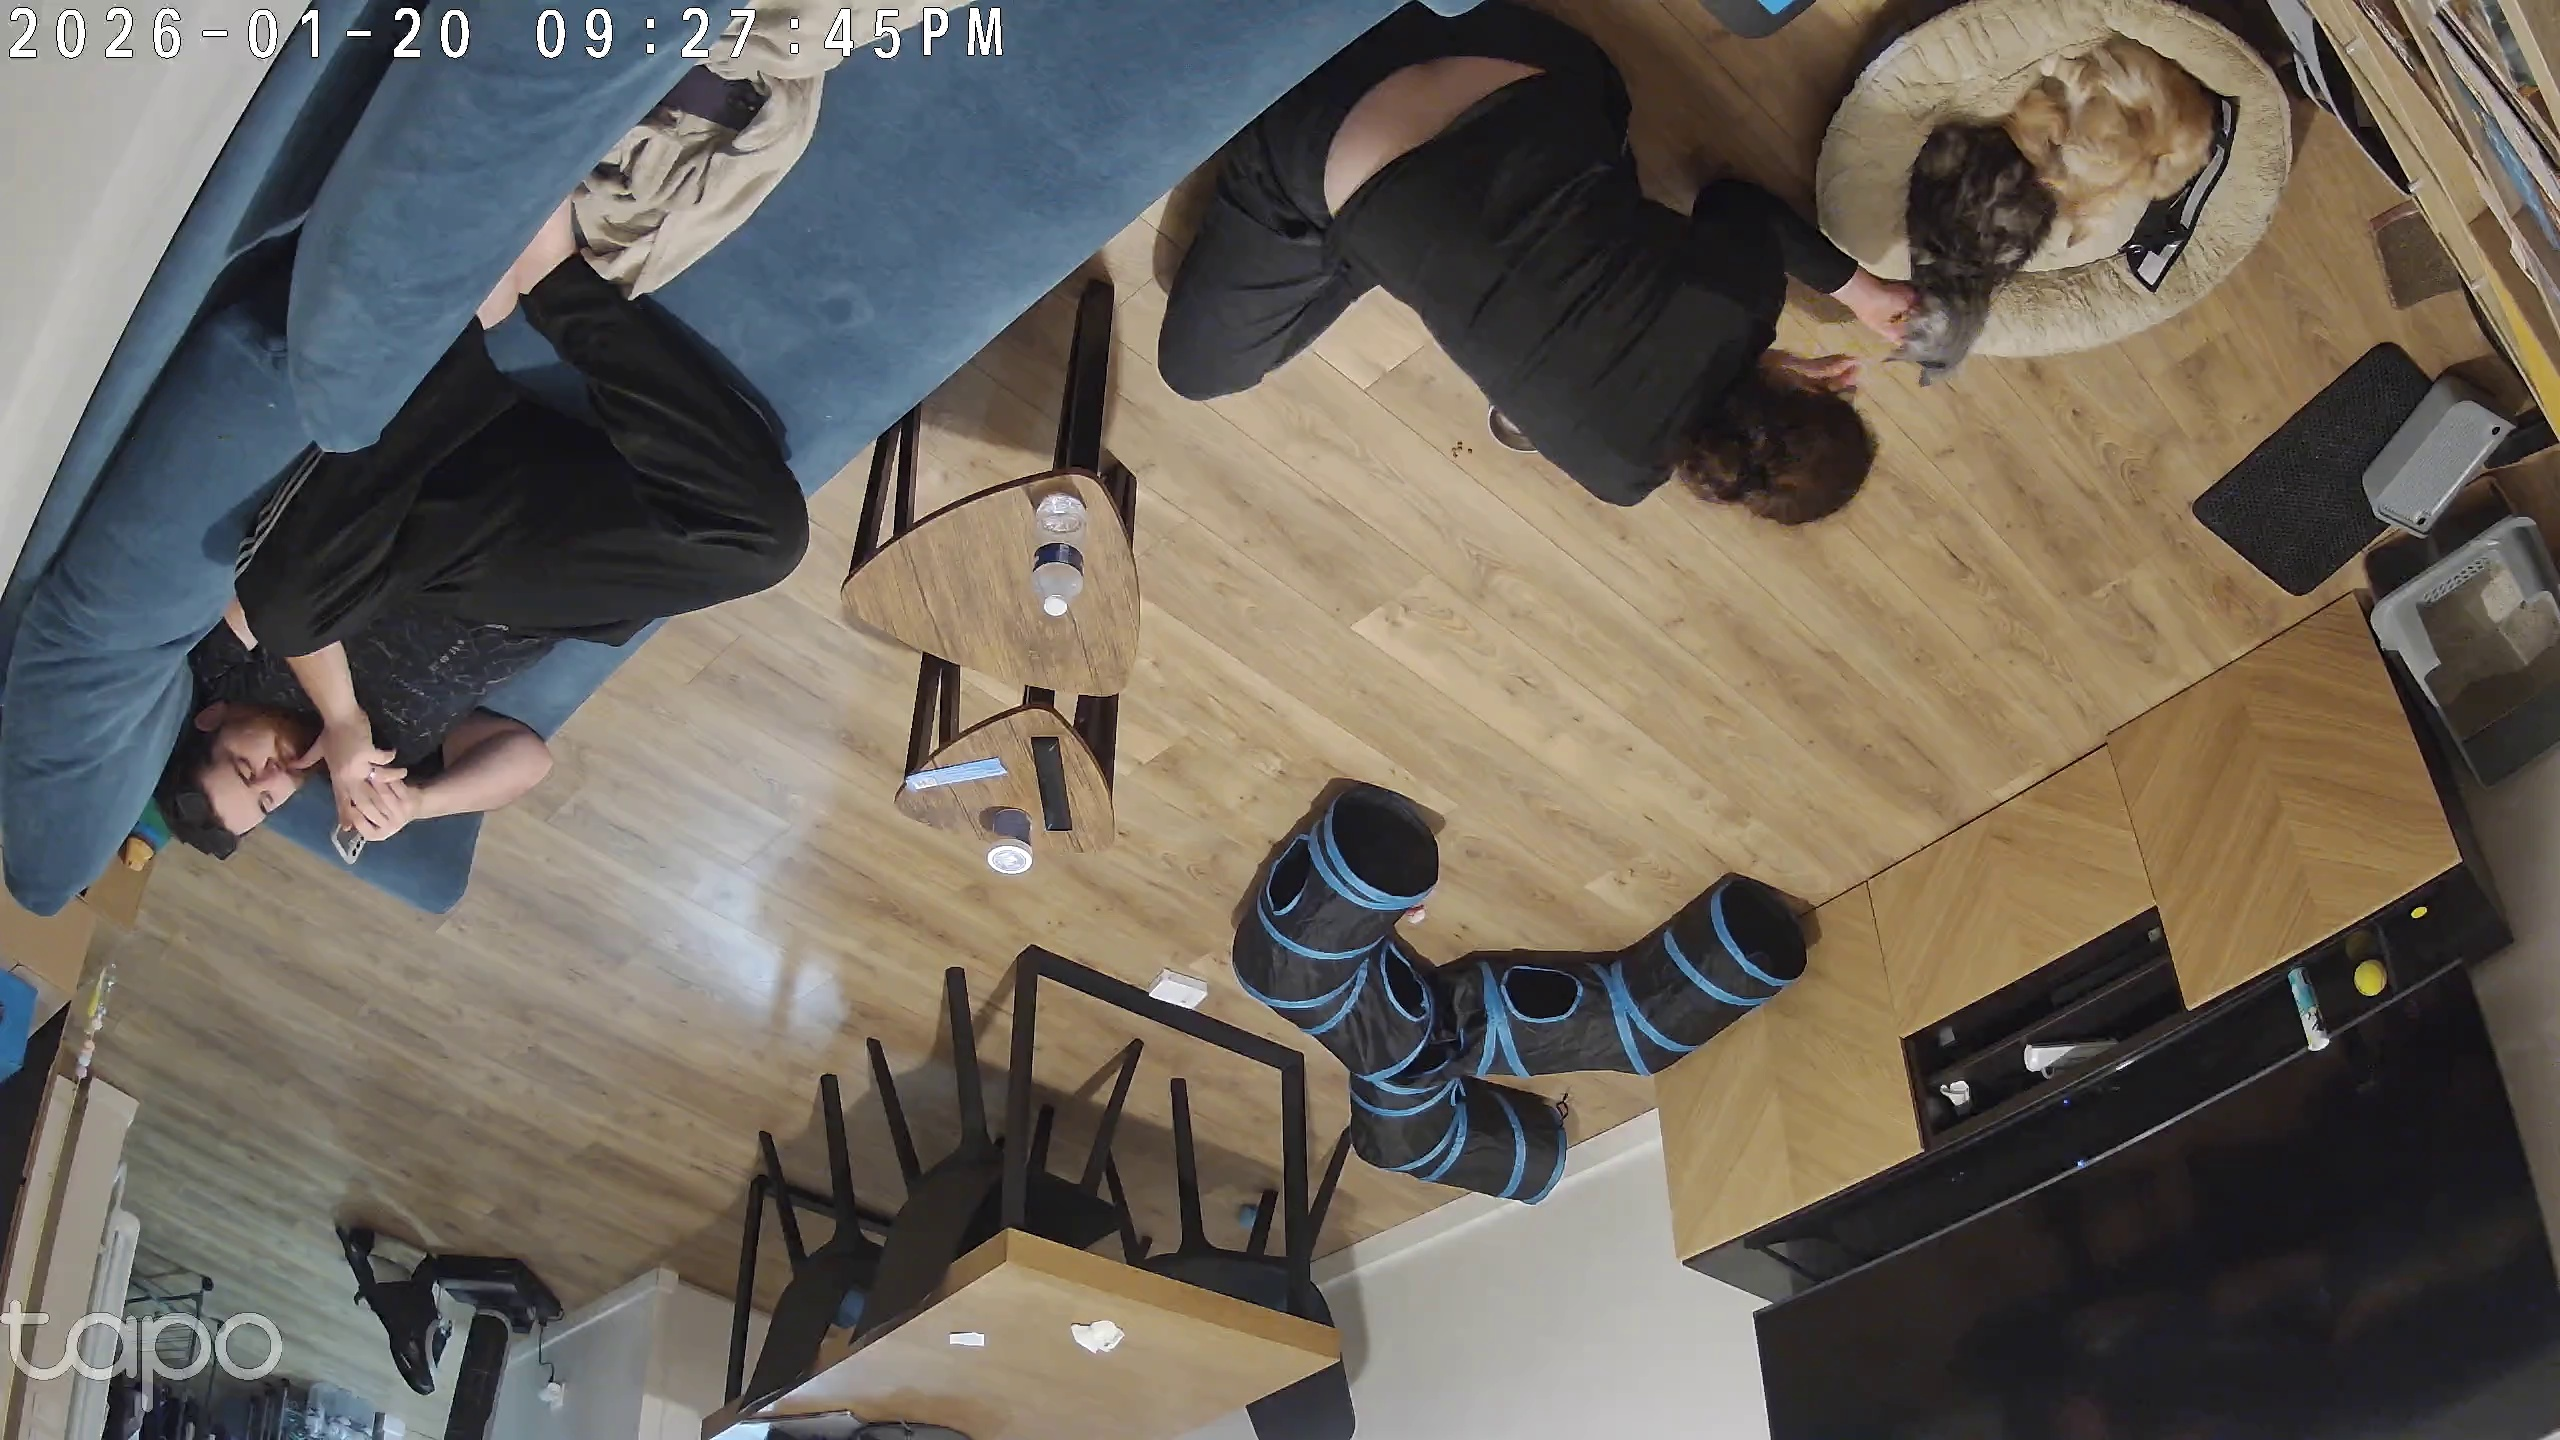Nala: (1883, 114, 2062, 389)
Simba: (1992, 12, 2258, 292)
